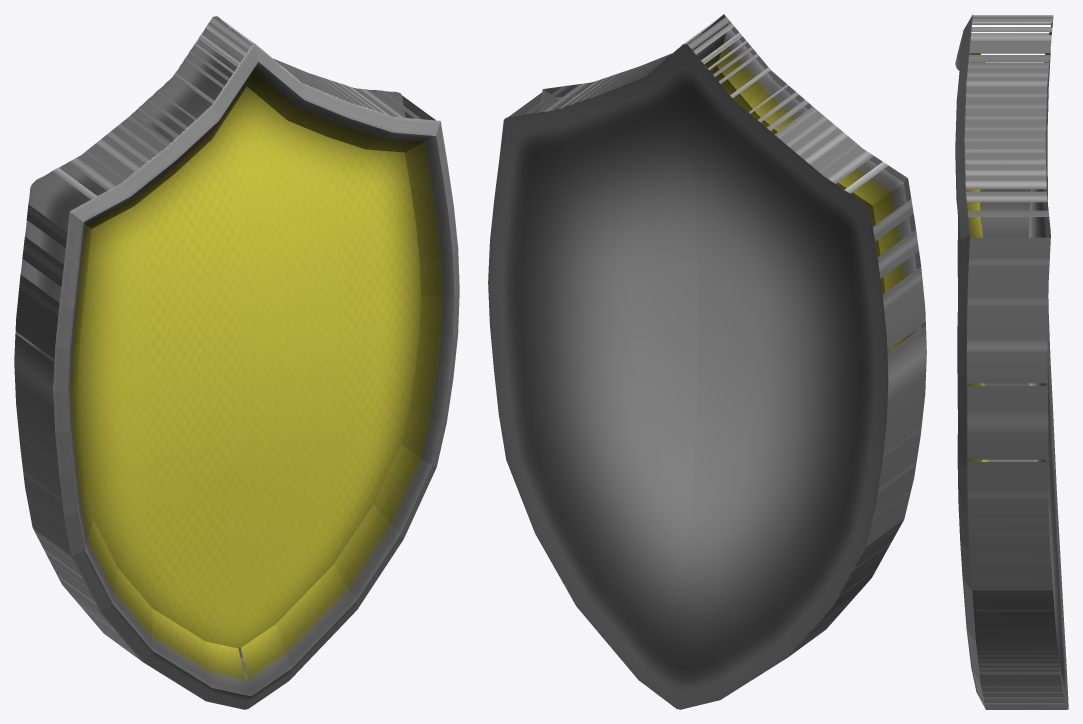
Rendered from Shield.FBX.
3 views of the same model, side by side, from view 1: azimuth 30°, elevation 25°; view 2: azimuth 150°, elevation 25°; view 3: azimuth 270°, elevation 25° (orthographic). The views are drawn at different scales.
Visible parts, largest first — view 1: Box001; view 2: Box001; view 3: Box001.
Part boxes in pixels (x1=…): Box001: x1=14, y1=16, x2=459, y2=709; Box001: x1=488, y1=14, x2=926, y2=709; Box001: x1=955, y1=14, x2=1068, y2=709.
Size of the model in its own units: 18.75 by 29.63 by 4.39.
Materials: 1 (1 with a texture image).
